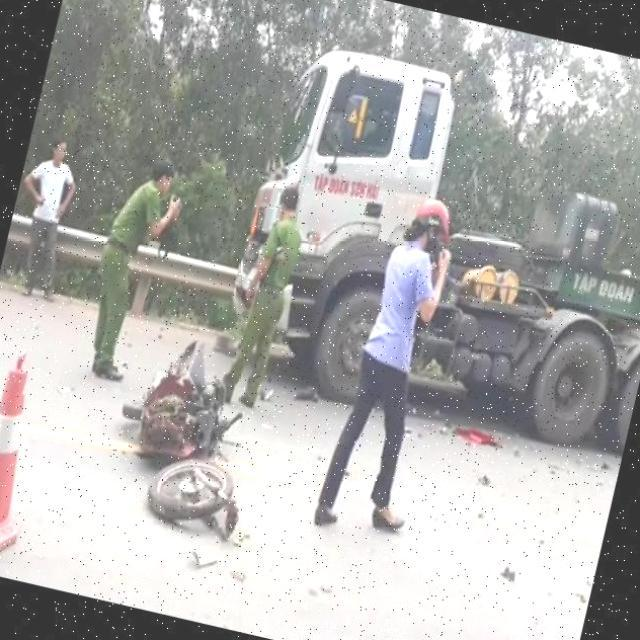accident: (104, 286, 281, 549)
